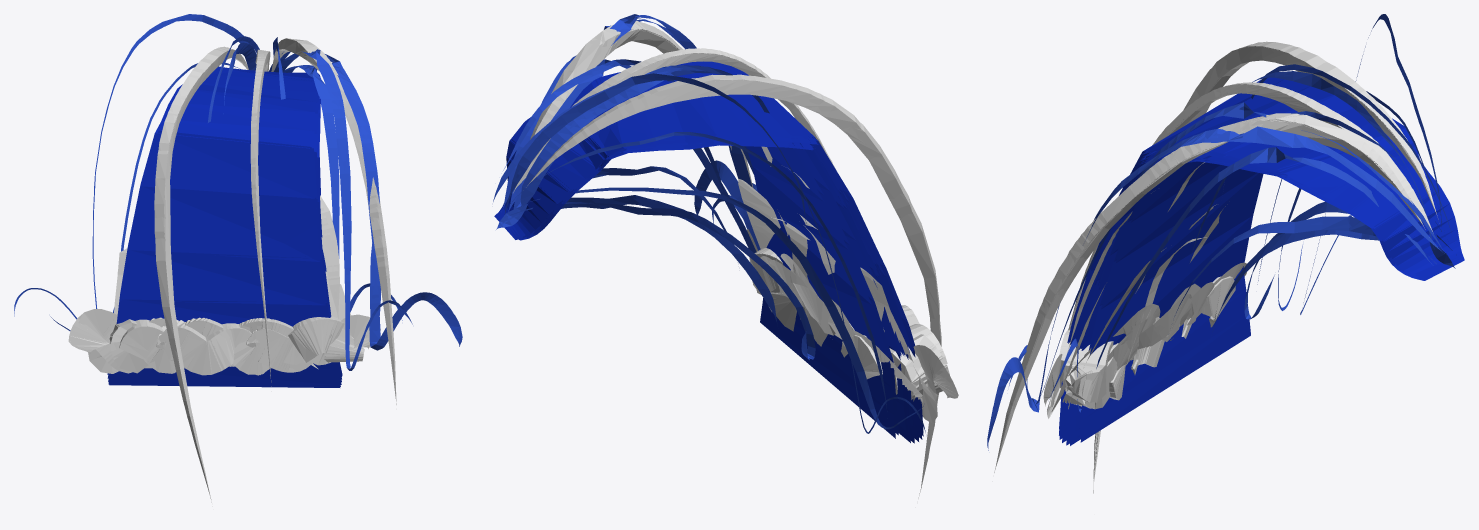
Rendered from HoleOpening.fbx.
3 views of the same model, side by side, from view 1: azimuth 30°, elevation 25°; view 2: azimuth 150°, elevation 25°; view 3: azimuth 270°, elevation 25° (orthographic). The views are drawn at different scales.
Parts seen in each view (by area): view 1: HoleOpenLoop; view 2: HoleOpenLoop; view 3: HoleOpenLoop.
Part boxes in pixels (<box>): HoleOpenLoop: <box>14,14,462,502</box>; HoleOpenLoop: <box>493,14,958,498</box>; HoleOpenLoop: <box>987,14,1464,493</box>.
Size of the model in its own units: 0.2345 by 0.2861 by 0.2316.
